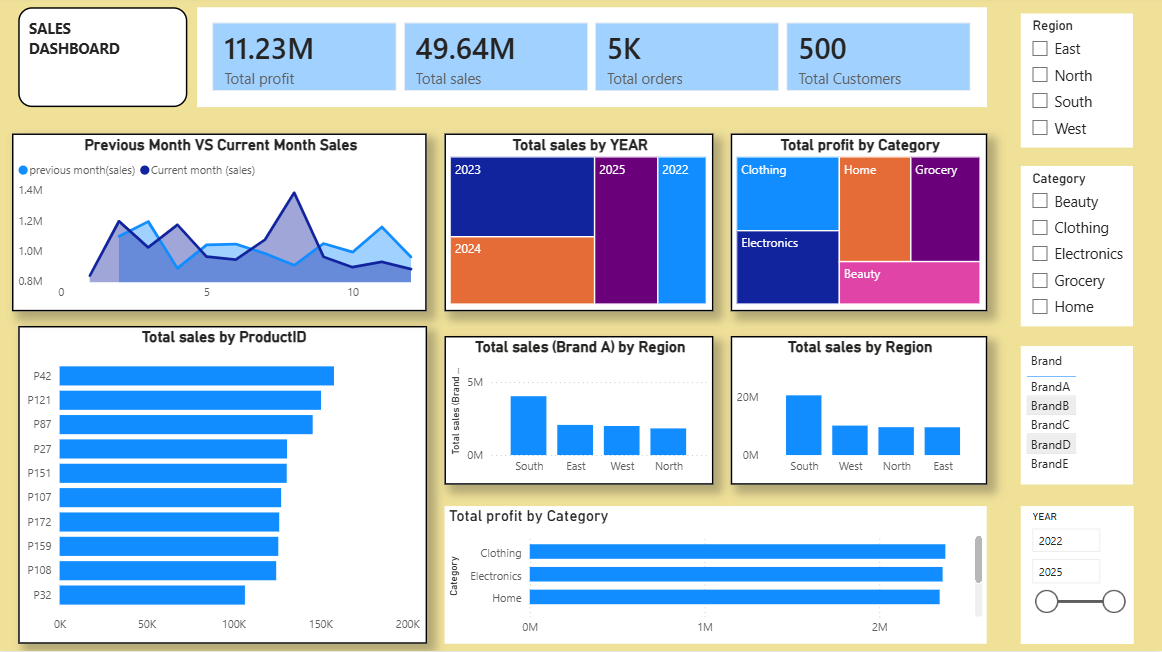

The dashboard page shown, as its layout file describes it:
{"tool":"powerbi","page":{"name":"Page 4","canvas":[1280,720],"ordinal":3},"visuals":[{"type":"columnChart","fields":{"Y":["Fact Sales.Total  sales"],"Category":["Dim Customer.Region"]},"box":[805.5,373.2,281.3,163.3],"z":0},{"type":"barChart","fields":{"Category":["Dim Product.Category"],"Y":["Fact Sales.Total profit"]},"box":[491.3,559.9,595.5,150.9],"z":1000},{"type":"treemap","fields":{"Values":["Fact Sales.Total  sales"],"Group":["Dim Calender.YEAR"]},"box":[491.3,150.9,295,194.9],"z":2000},{"type":"barChart","fields":{"Category":["Dim Product.ProductID"],"Y":["Fact Sales.Total  sales"]},"box":[23.3,362.3,448.7,348.5],"z":3000},{"type":"columnChart","fields":{"Category":["Dim Customer.Region"],"Y":["Fact Sales.Total sales (Brand A)"]},"box":[491.3,373.2,295,163.3],"z":4000},{"type":"treemap","fields":{"Values":["Fact Sales.Total profit"],"Group":["Dim Product.Category"]},"box":[805.5,150.9,281.3,194.9],"z":5000},{"type":"areaChart","title":"Previous Month VS Current Month Sales","fields":{"Y":["Fact Sales.previous month(sales)","Fact Sales.Current month (sales)"],"Category":["Dim Calender.MONTH"]},"box":[16.5,150.9,455.6,194.9],"z":6000},{"type":"cardVisual","fields":{"Data":["Fact Sales.Total profit","Fact Sales.Total  sales","Fact Sales.Total orders","Fact Sales.Total Customers"]},"box":[219.6,12.3,867.2,109.8],"z":7000},{"type":"textbox","box":[23.3,12.3,185.2,109.8],"z":8000},{"type":"slicer","fields":{"Values":["Dim Customer.Region"]},"box":[1123.8,19.2,123.5,146.8],"z":9000},{"type":"slicer","fields":{"Values":["Dim Product.Category"]},"box":[1123.8,186.6,123.5,175.6],"z":10000},{"type":"tableEx","fields":{"Values":["Dim Product.Brand"]},"box":[1123.8,384.2,123.5,152.3],"z":11000},{"type":"slicer","fields":{"Values":["Dim Calender.YEAR"]},"box":[1123.8,559.9,123.5,150.9],"z":12000}]}

Visuals, with their boxes in screenshot pixels (x1, y1, x2, y2), scaled from the page's 1280x720 canvas onto the 1162x652 screenshot:
columnChart - Fact Sales.Total  sales x Dim Customer.Region: locate(731, 338, 987, 486)
barChart - Dim Product.Category x Fact Sales.Total profit: locate(446, 507, 987, 644)
treemap - Fact Sales.Total  sales x Dim Calender.YEAR: locate(446, 137, 714, 313)
barChart - Dim Product.ProductID x Fact Sales.Total  sales: locate(21, 328, 428, 644)
columnChart - Dim Customer.Region x Fact Sales.Total sales (Brand A): locate(446, 338, 714, 486)
treemap - Fact Sales.Total profit x Dim Product.Category: locate(731, 137, 987, 313)
"Previous Month VS Current Month Sales" areaChart: locate(15, 137, 429, 313)
cardVisual - Fact Sales.Total profit x Fact Sales.Total  sales: locate(199, 11, 987, 111)
textbox: locate(21, 11, 189, 111)
slicer - Dim Customer.Region: locate(1020, 17, 1132, 150)
slicer - Dim Product.Category: locate(1020, 169, 1132, 328)
tableEx - Dim Product.Brand: locate(1020, 348, 1132, 486)
slicer - Dim Calender.YEAR: locate(1020, 507, 1132, 644)
